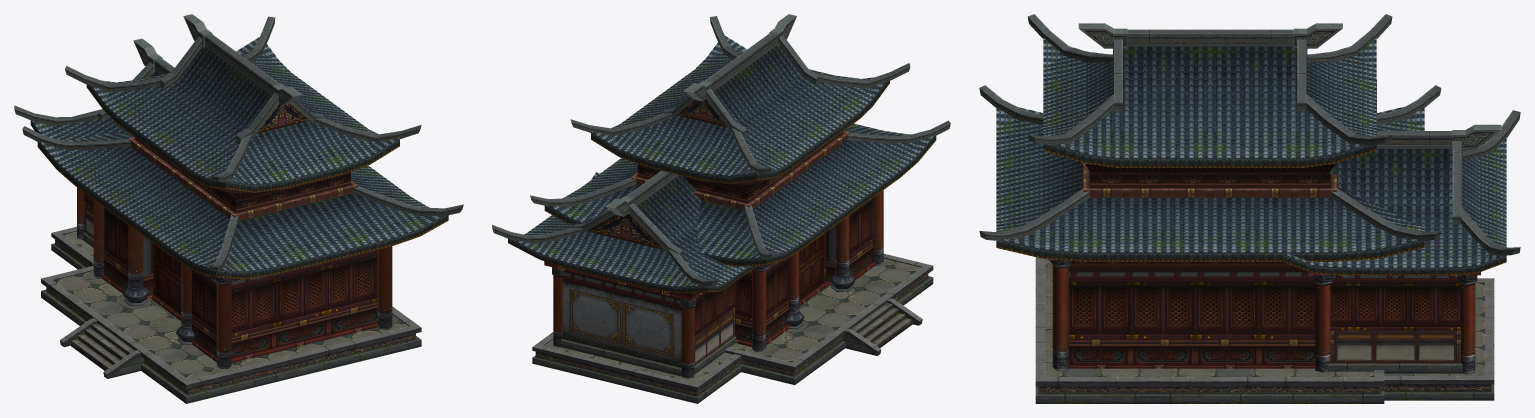
Rendered from HYC_jianzhu_03.FBX.
3 views of the same model, side by side, from view 1: azimuth 30°, elevation 25°; view 2: azimuth 150°, elevation 25°; view 3: azimuth 270°, elevation 25° (orthographic). The views are drawn at different scales.
Visible parts, largest first — view 1: HYC_jianzhu_03; view 2: HYC_jianzhu_03; view 3: HYC_jianzhu_03.
Boxes of the visible parts, left/top/right/bottom form: HYC_jianzhu_03: left=14, top=14, right=463, bottom=403; HYC_jianzhu_03: left=492, top=14, right=950, bottom=403; HYC_jianzhu_03: left=979, top=14, right=1520, bottom=403.
Bounding box in the file's own units: 1469 × 1246 × 1924.
